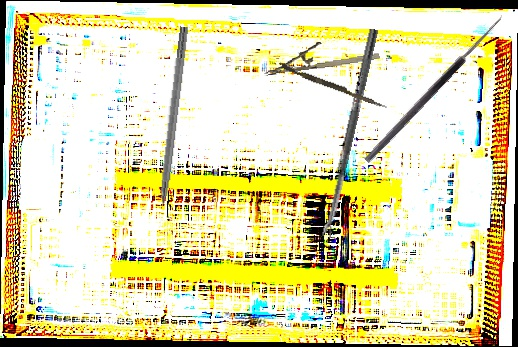Hook Surgical: (356, 6, 507, 165), (152, 26, 190, 228)
Needle Holder: (260, 34, 381, 77)
Pusher: (280, 63, 389, 110)
Surgical Spoon: (320, 28, 379, 238)
